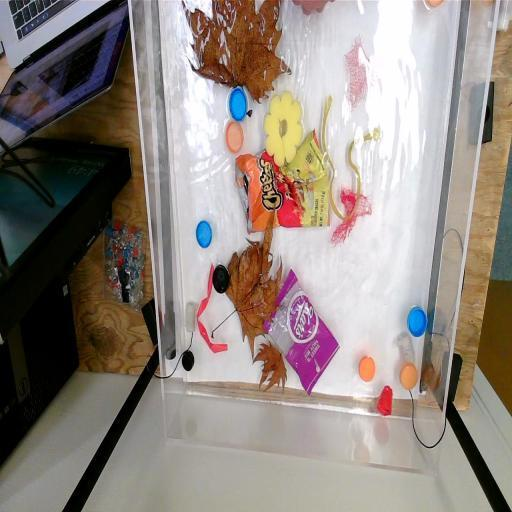Bottle Cap: (226, 82, 249, 126), (406, 298, 428, 342), (211, 260, 232, 302), (222, 119, 245, 157), (357, 350, 377, 389), (398, 358, 418, 395), (193, 217, 214, 252), (420, 0, 452, 12), (181, 348, 195, 372)
Cone Cap: (374, 382, 396, 422)
Leaf: (178, 0, 293, 100), (216, 218, 286, 352), (249, 340, 291, 396)
Netting: (340, 30, 376, 120), (331, 184, 375, 252)
Plastic Bag: (232, 125, 336, 237), (261, 266, 344, 400)
Plastic Strand: (322, 94, 382, 224), (194, 260, 232, 362)
Sponge: (262, 88, 305, 170)
